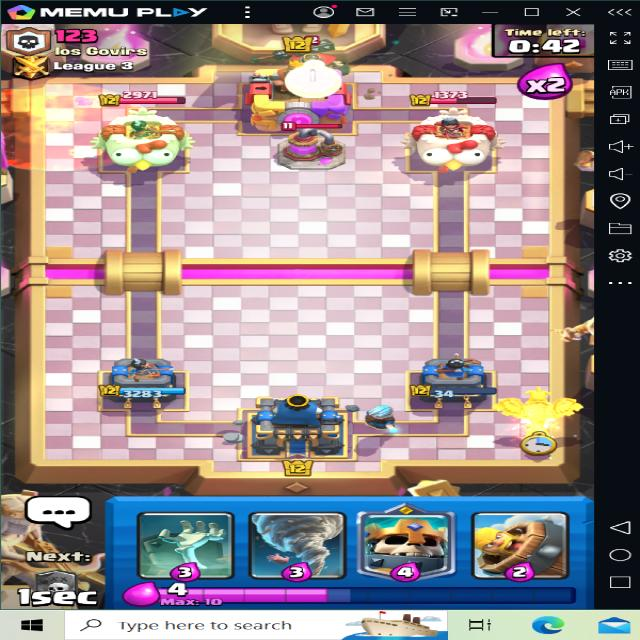elixir-collector: (270, 124, 361, 173)
skeleton-king: (261, 38, 363, 86)
